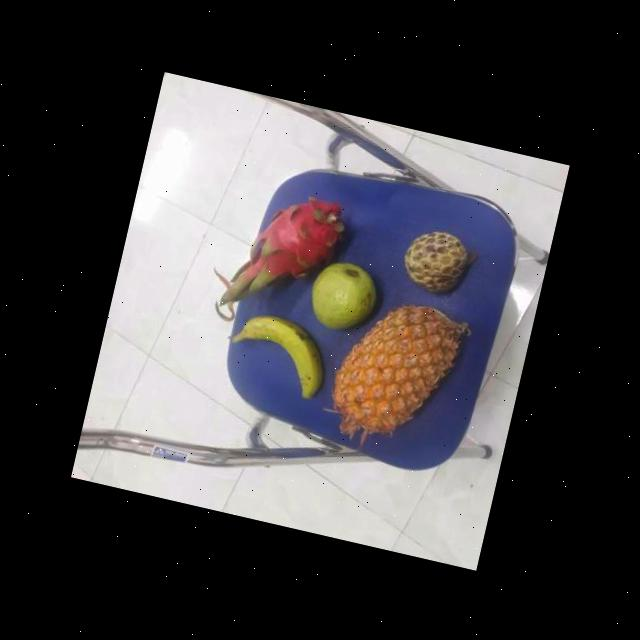Sakya fruit: (398, 224, 476, 302)
banana: (224, 307, 335, 403)
guava: (302, 253, 383, 338)
pineapple: (322, 290, 471, 454)
pitaya: (244, 189, 348, 299)
